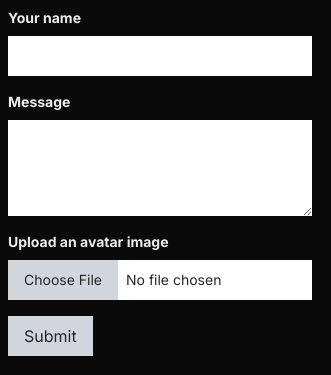
Test: <PostForm /> › shows an error message when submission fails
The image size is (331, 375).
Type "John Doe" into the field labelled "Your name".
click(160, 56); type("John Doe")  # box [8,36,312,76]
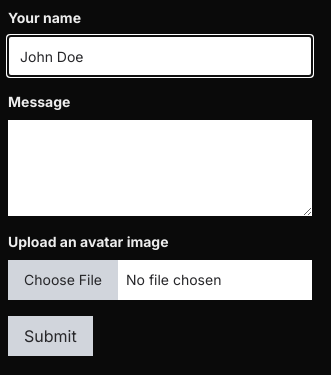
Type "Dummy content" into the text box labelled "Message".
click(160, 168); type("Dummy content")  # box [8,120,312,216]
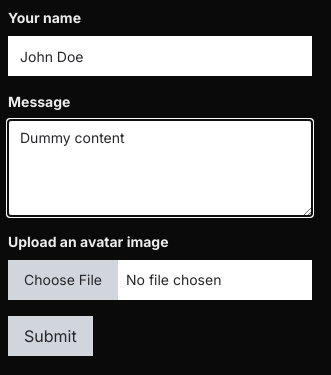
Click the button "Submit".
click(50, 336)  # box [8,316,93,356]
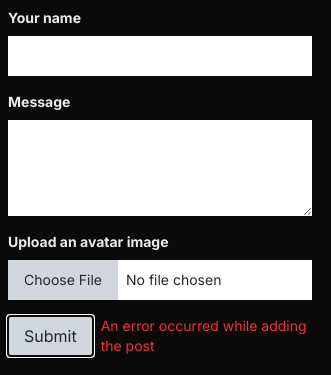
Expected: the text "An error occurred while adding the post" is shown, [101,316,312,356]
